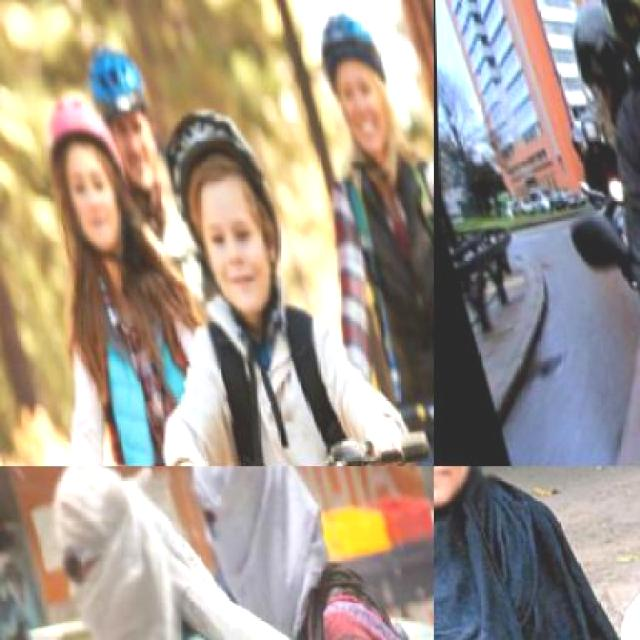With Helmet: (138, 74, 318, 369), (23, 70, 148, 273), (74, 25, 178, 209), (303, 0, 409, 160), (552, 0, 638, 125), (580, 0, 638, 94)
Without Helmet: (17, 466, 201, 639), (169, 466, 334, 592)
